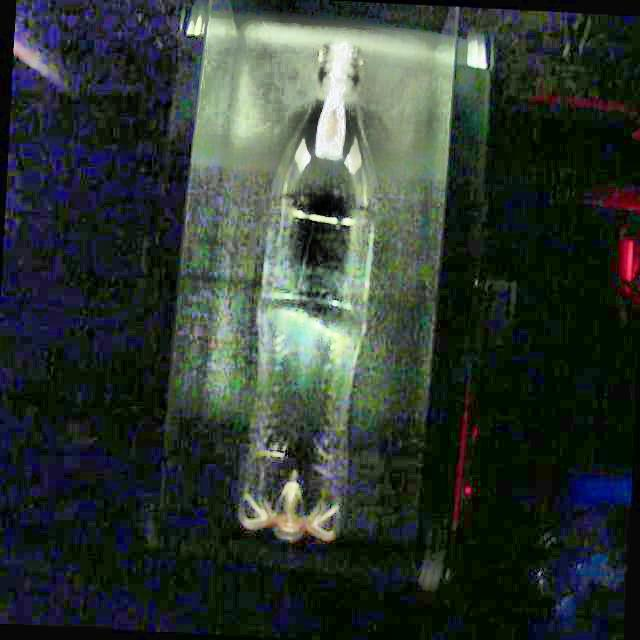plastic bottle: (241, 40, 374, 542)
